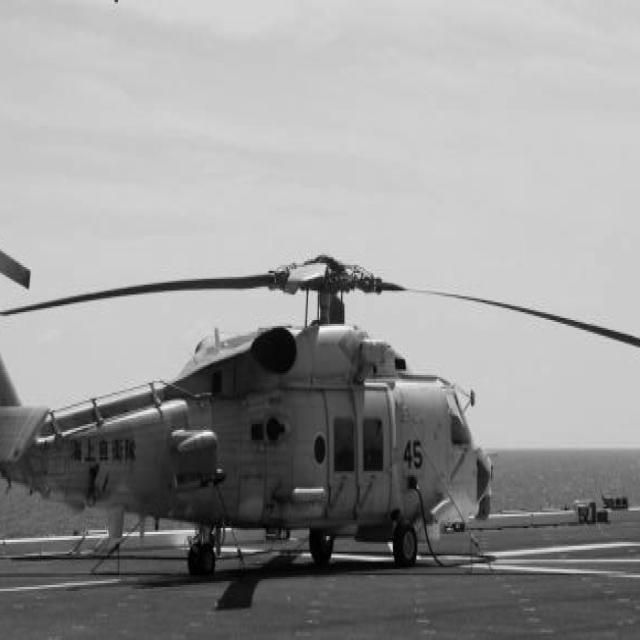helicopter: (1, 84, 640, 614)
